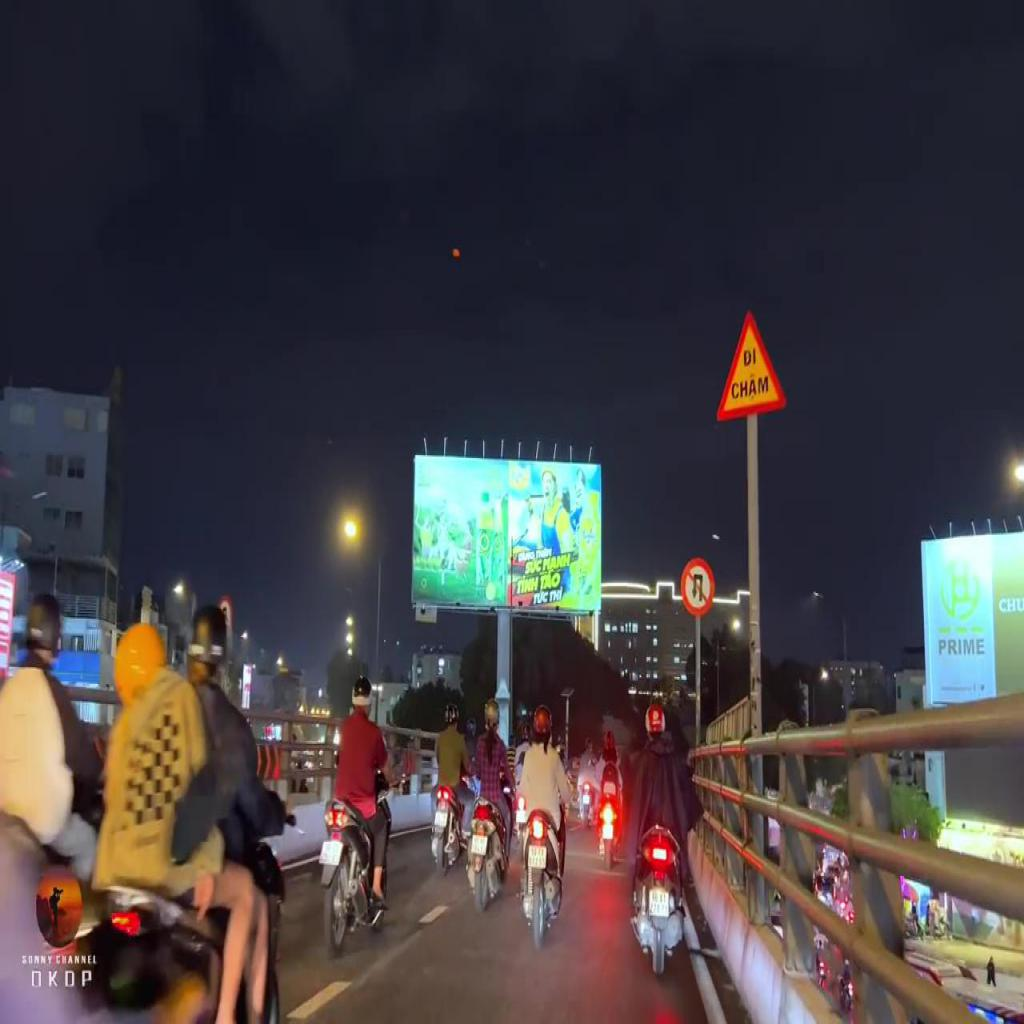cam_quay_dau_xe: (682, 558, 715, 617)
di_cham: (716, 309, 788, 421)
